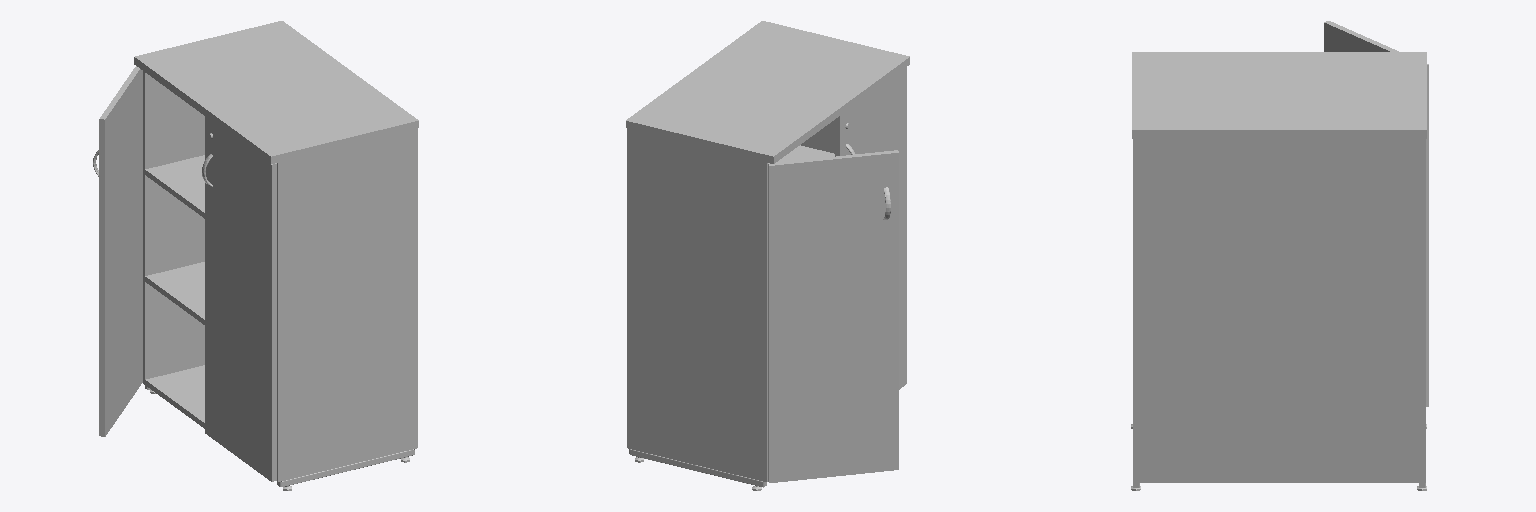
The robot description file, URDF, robot "00620":
<?xml version='1.0' encoding='utf-8'?>
<robot name="00620">
  <link name="base" />
  <link name="link_0">
    <visual>
      <origin xyz="0 0 0" rpy="0 0 0" />
      <geometry>
        <mesh filename="textured_objs/part_0.obj" />
      </geometry>
      <material name="material_0">
        <color rgba="0.8 0.8 0.8 1.0" />
      </material>
    </visual>
    <collision>
      <origin xyz="0 0 0" rpy="0 0 0" />
      <geometry>
        <mesh filename="textured_objs/part_0.obj" />
      </geometry>
    </collision>
    <inertial>
      <mass value="1.0" />
      <inertia ixx="0.1" ixy="0" ixz="0" iyy="0.1" iyz="0" izz="0.1" />
    </inertial>
  </link>
  <link name="link_1">
    <visual>
      <origin xyz="0 0 0" rpy="0 0 0" />
      <geometry>
        <mesh filename="textured_objs/part_1.obj" />
      </geometry>
      <material name="material_1">
        <color rgba="0.8 0.8 0.8 1.0" />
      </material>
    </visual>
    <collision>
      <origin xyz="0 0 0" rpy="0 0 0" />
      <geometry>
        <mesh filename="textured_objs/part_1.obj" />
      </geometry>
    </collision>
    <inertial>
      <mass value="1.0" />
      <inertia ixx="0.1" ixy="0" ixz="0" iyy="0.1" iyz="0" izz="0.1" />
    </inertial>
  </link>
  <link name="link_2">
    <visual>
      <origin xyz="0 0 0" rpy="0 0 0" />
      <geometry>
        <mesh filename="textured_objs/part_2.obj" />
      </geometry>
      <material name="material_2">
        <color rgba="0.8 0.8 0.8 1.0" />
      </material>
    </visual>
    <collision>
      <origin xyz="0 0 0" rpy="0 0 0" />
      <geometry>
        <mesh filename="textured_objs/part_2.obj" />
      </geometry>
    </collision>
    <inertial>
      <mass value="1.0" />
      <inertia ixx="0.1" ixy="0" ixz="0" iyy="0.1" iyz="0" izz="0.1" />
    </inertial>
  </link>
  <joint name="joint_2_0" type="revolute">
    <parent link="link_2" />
    <child link="link_0" />
    <origin xyz="-0.719526 -0.000028 0.391614" rpy="0 0 0" />
    <axis xyz="-0.000131 0.999999 -0.000169" />
    <limit lower="-1.599683" upper="-0.014166" effort="1000" velocity="100" />
  </joint>
  <joint name="joint_2_1" type="revolute">
    <parent link="link_2" />
    <child link="link_1" />
    <origin xyz="0.718371 -0.000193 0.394973" rpy="0 0 0" />
    <axis xyz="0.000457 0.999999 -0.000344" />
    <limit lower="-0.003004" upper="1.579661" effort="1000" velocity="100" />
  </joint>
  <joint name="joint_base_link_2" type="fixed">
    <origin rpy="1.570796326794897 0 -1.570796326794897" xyz="0 0 0" />
    <child link="link_2" />
    <parent link="base" />
  </joint>
</robot>

--- What the picture shows (computed from the rendered views, not written in the file) ---
The picture shows the robot from 3 angles, left to right: view 1: azimuth 30°, elevation 25°; view 2: azimuth 150°, elevation 25°; view 3: azimuth 270°, elevation 25°; orthographic projection.
Robot: 00620 — 4 links, 3 joints (2 revolute, 1 fixed); root link base; default pose: joints at zero except 1 at the middle of their limits (joint_2_0 = -0.8069).
Links seen in each view (by area): view 1: link_2, link_1, link_0; view 2: link_2, link_0, link_1; view 3: link_2, link_0.
Boxes of the visible links, x1,y1,x2,y2 form: link_2: [134, 21, 418, 490]; link_1: [202, 116, 276, 481]; link_0: [93, 66, 142, 436]; link_2: [626, 21, 909, 490]; link_0: [768, 150, 898, 482]; link_1: [835, 67, 906, 389]; link_2: [1131, 52, 1426, 490]; link_0: [1324, 21, 1428, 406].
Bounding box of the posed robot: 1.41 × 1.48 × 2 m (x, y, z).
Meshes: 3 distinct files referenced, 3 mesh visuals loaded (3 OBJ).
